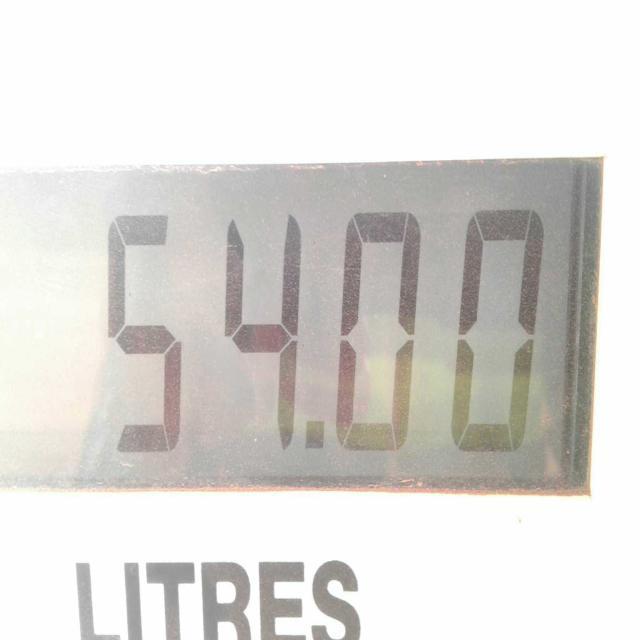.: (302, 405, 329, 471)
0: (445, 206, 556, 470), (327, 201, 427, 462)
4: (196, 208, 308, 457)
5: (100, 194, 190, 471)
